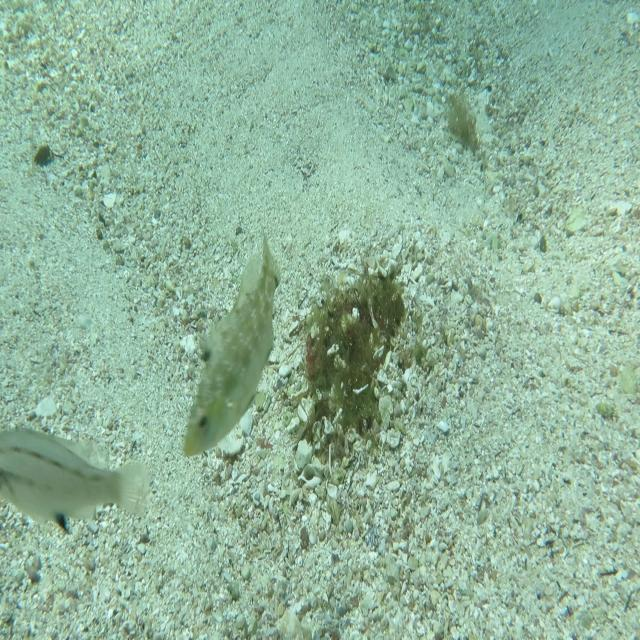CHASE_FLEE: (178, 224, 282, 462)
core_nest: (346, 288, 396, 335)
female: (0, 422, 151, 534)
nest: (274, 241, 419, 478)
